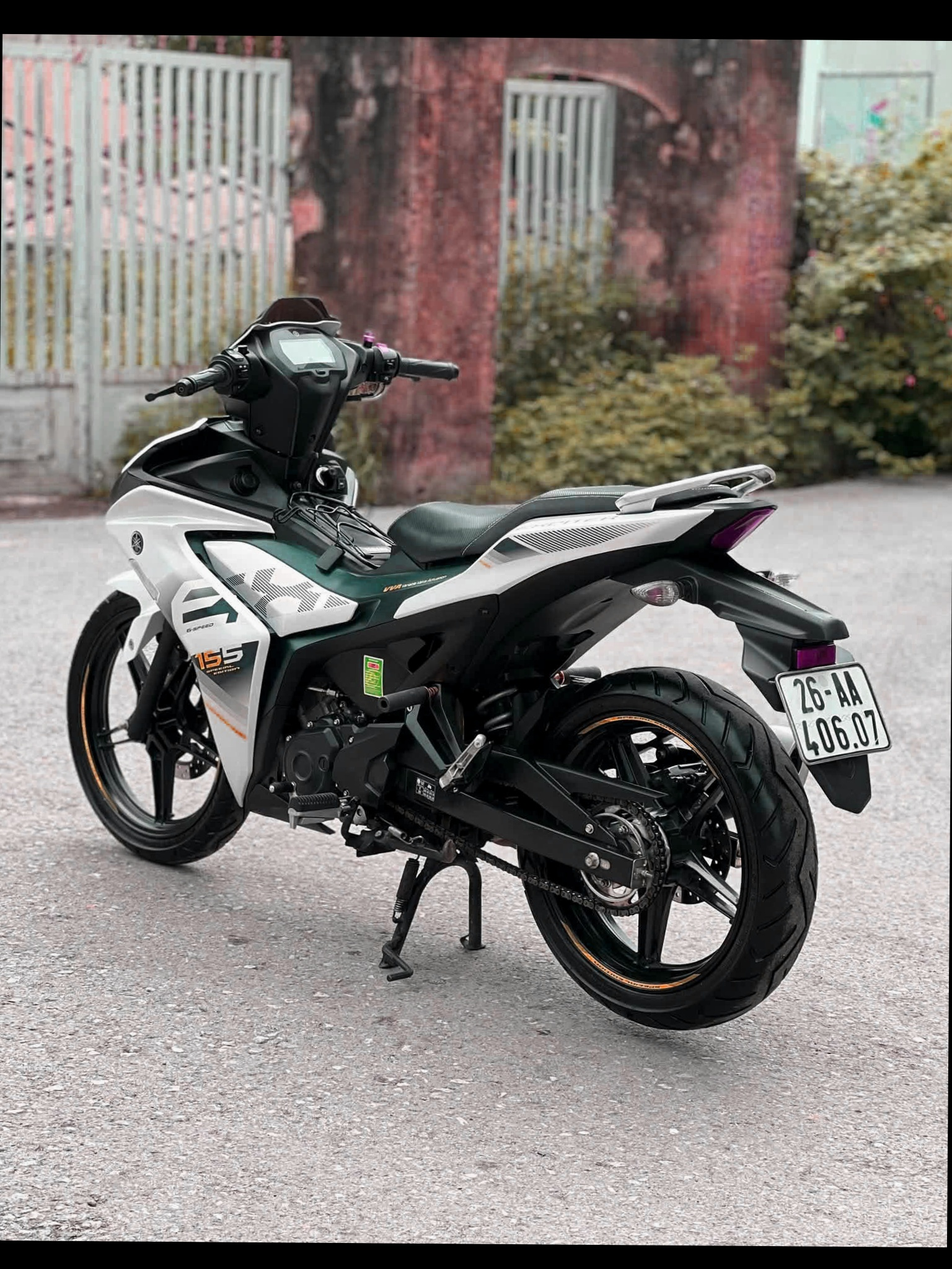Bien-so: (781, 657, 894, 758)
